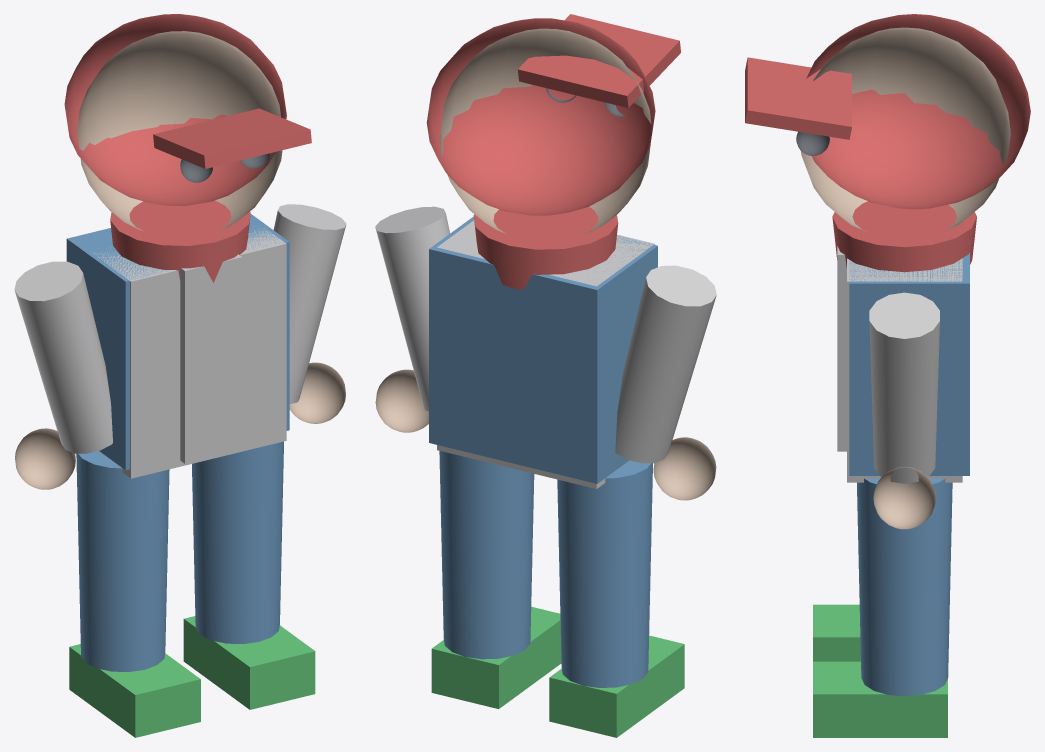
The model's file is 13_runner_character.glb.
3 renders of one model, left to right at view 1: azimuth 30°, elevation 25°; view 2: azimuth 150°, elevation 25°; view 3: azimuth 270°, elevation 25°, orthographic. The views are drawn at different scales.
Visible parts, largest first — view 1: RunnerCharacter; view 2: RunnerCharacter; view 3: RunnerCharacter.
Part boxes in pixels (x1,y1,x2,y2): RunnerCharacter: (14, 14, 346, 737); RunnerCharacter: (375, 14, 716, 737); RunnerCharacter: (745, 14, 1030, 737).
Bounding box in the file's own units: 0.79 × 1.53 × 0.5924.
